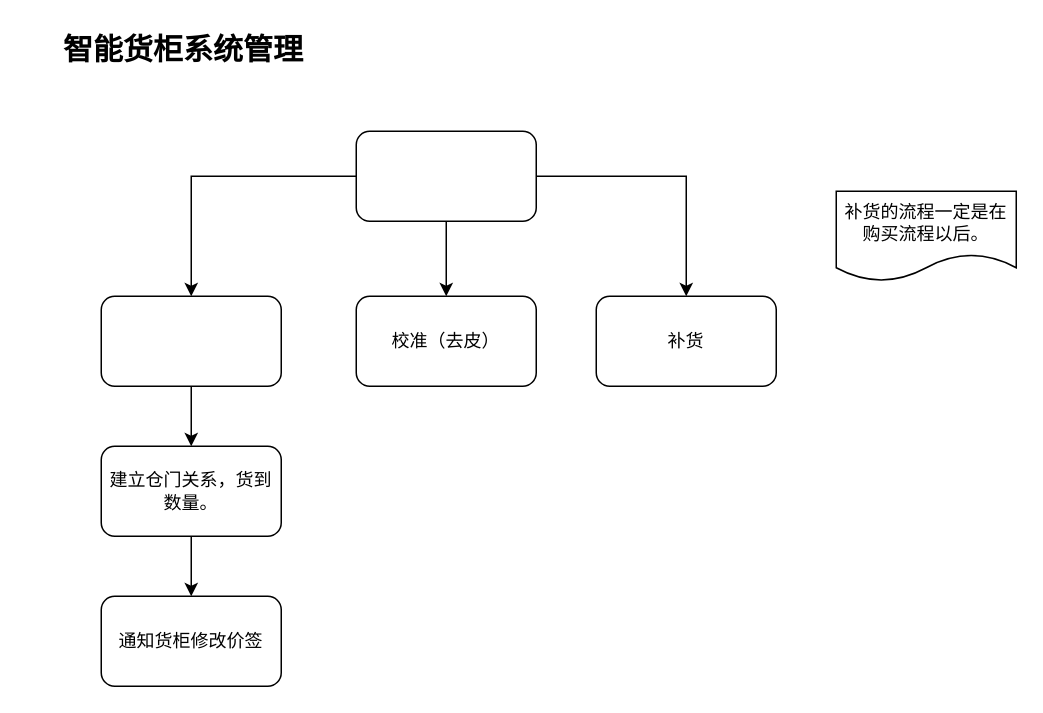
Image size: 1043x713. Some labels were removed from this diagram. Here are the shapes that lost their labels. From the top down, the centre of each, then its label:
the point at 445,175: 后台管理系统服务
the point at 190,340: 初始化
